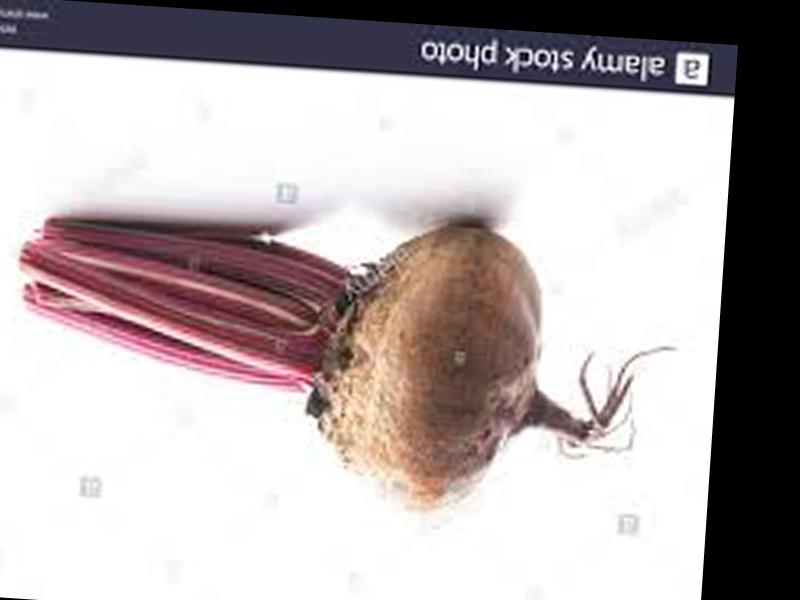Beet: (4, 194, 683, 525)
